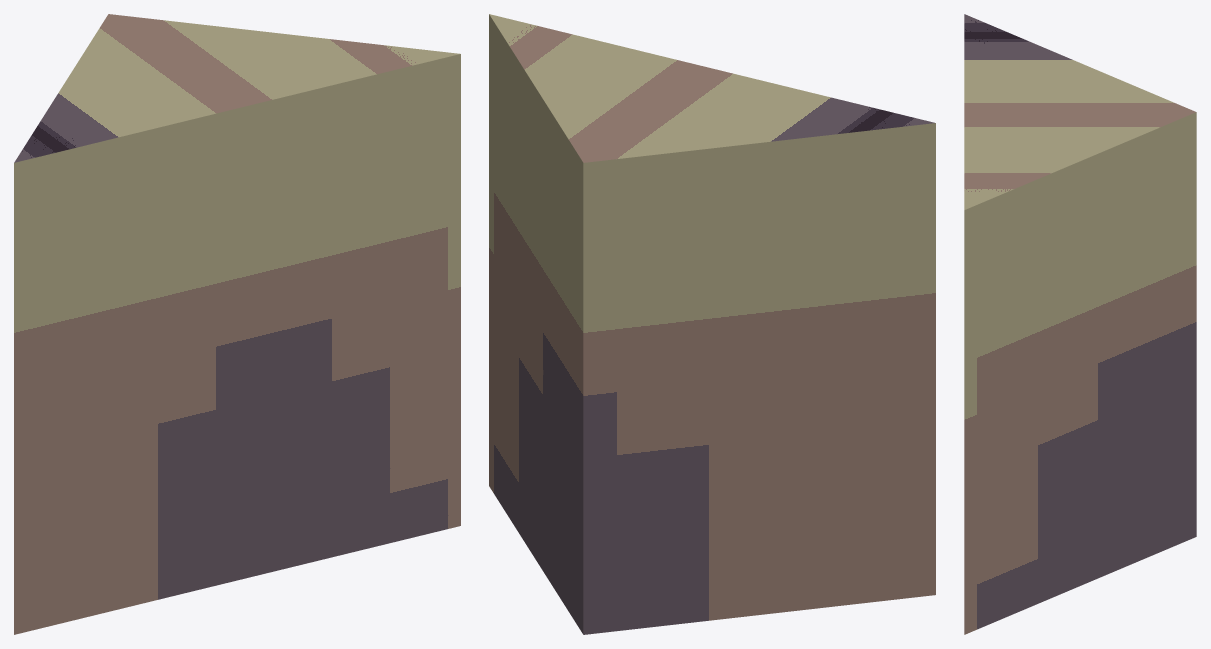
The model's file is armadillo_neck.glb.
3 views of the same model, side by side, from view 1: azimuth 30°, elevation 25°; view 2: azimuth 150°, elevation 25°; view 3: azimuth 270°, elevation 25° (orthographic). The views are drawn at different scales.
Visible parts, largest first — view 1: Cube.126; view 2: Cube.126; view 3: Cube.126.
Part boxes in pixels (x1=…): Cube.126: x1=14, y1=14, x2=460, y2=634; Cube.126: x1=489, y1=14, x2=935, y2=634; Cube.126: x1=964, y1=14, x2=1196, y2=634.
Size of the model in its own units: 1.12 by 1.13 by 0.5604.
1 material, 1 textured.
